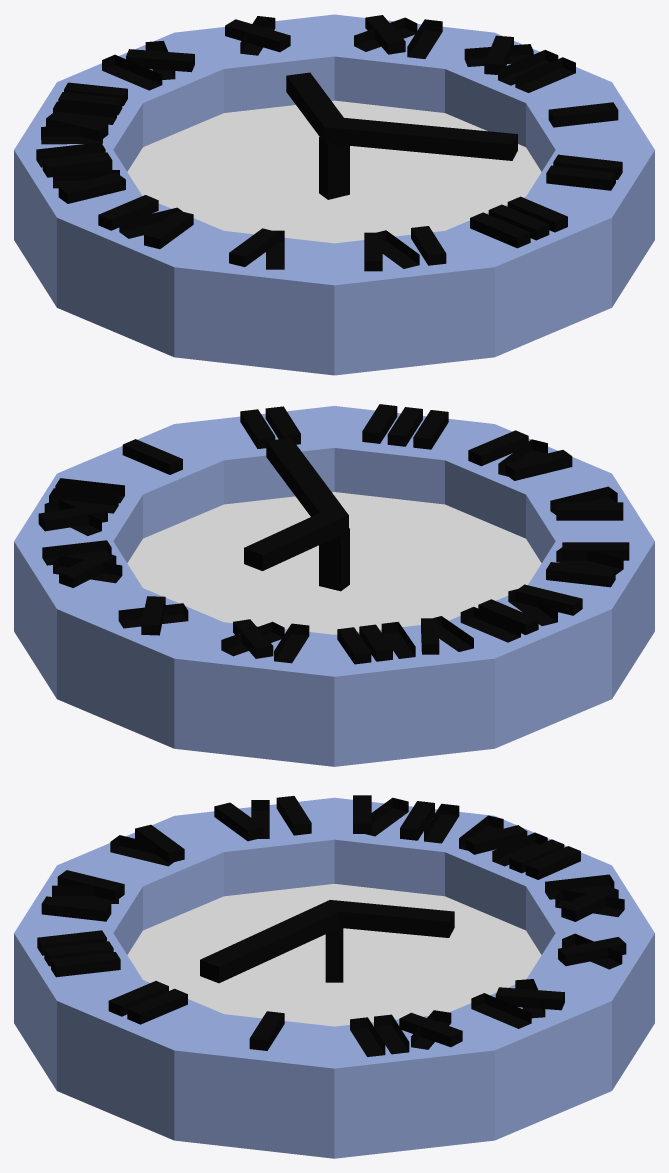
File: Reloj.fbx
The picture shows the model from 3 angles, top to bottom: view 1: azimuth 30°, elevation 25°; view 2: azimuth 150°, elevation 25°; view 3: azimuth 270°, elevation 25°; orthographic projection.
Visible parts, largest first — view 1: Cylinder, Cube, 8, 7, 12, 3, 6, 9, 11, 4, 2, 10 (+2 smaller); view 2: Cylinder, Cube, 7, 8, 12, 4, 6, 3, 11, 9, 5, 10 (+2 smaller); view 3: Cylinder, Cube, 8, 12, 7, 4, 3, 11, 9, 6, 2, 5 (+2 smaller).
Boxes of the visible parts, x1,y1,x2,y2 form: Cylinder: [14, 14, 654, 375]; Cube: [286, 72, 517, 199]; 8: [41, 82, 127, 144]; 7: [36, 142, 125, 203]; 12: [464, 35, 575, 92]; 3: [470, 196, 567, 248]; 6: [98, 195, 193, 249]; 9: [102, 40, 194, 90]; 11: [354, 15, 442, 58]; 4: [364, 226, 446, 271]; 2: [546, 154, 622, 190]; 10: [225, 16, 290, 55]; Cylinder: [14, 406, 654, 766]; Cube: [244, 437, 349, 591]; 7: [460, 584, 582, 642]; 8: [337, 616, 473, 664]; 12: [38, 478, 124, 535]; 4: [468, 430, 572, 480]; 6: [546, 542, 629, 587]; 3: [362, 404, 448, 449]; 11: [42, 540, 122, 587]; 9: [221, 619, 309, 663]; 5: [550, 486, 623, 520]; 10: [118, 596, 188, 635]; Cylinder: [14, 797, 654, 1158]; Cube: [200, 900, 454, 983]; 8: [459, 815, 580, 879]; 12: [350, 1010, 462, 1056]; 7: [353, 795, 459, 843]; 4: [41, 870, 124, 921]; 3: [37, 930, 120, 977]; 11: [471, 979, 564, 1028]; 9: [545, 874, 624, 921]; 6: [214, 796, 311, 841]; 2: [108, 981, 187, 1024]; 5: [110, 824, 184, 866].
Bounding box in the file's own units: 200 × 40.47 × 200.
